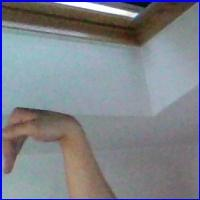del: (6, 102, 86, 179)
